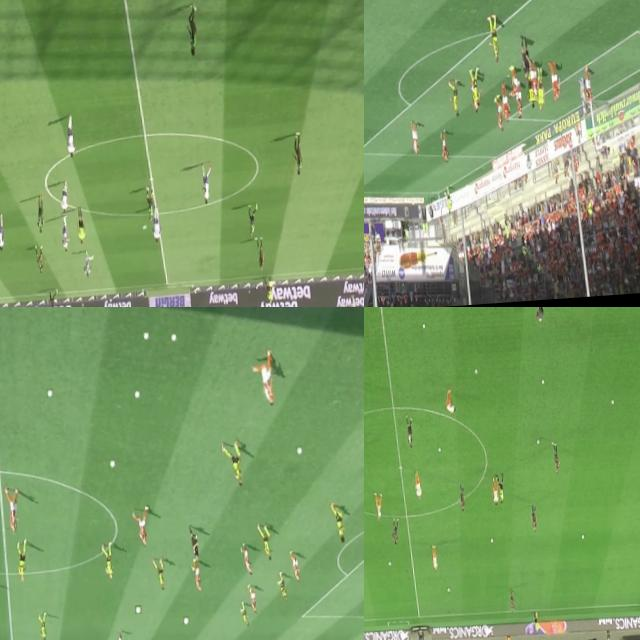ball: (140, 221, 149, 232), (46, 387, 54, 398), (134, 604, 142, 614), (441, 188, 447, 200), (296, 444, 302, 456), (108, 458, 115, 468), (182, 614, 189, 624), (142, 331, 150, 339), (540, 378, 546, 388), (488, 536, 494, 546), (170, 332, 177, 340), (133, 390, 140, 398), (580, 532, 585, 541), (610, 398, 615, 407), (474, 366, 478, 376), (436, 444, 440, 454), (386, 560, 391, 568), (447, 585, 451, 593), (421, 322, 425, 329), (537, 438, 539, 446)
player: (220, 436, 243, 486), (130, 501, 152, 548), (488, 8, 502, 68), (4, 482, 20, 534), (255, 520, 272, 562), (186, 1, 198, 59), (100, 538, 116, 580), (15, 534, 29, 582), (504, 62, 520, 101), (408, 112, 421, 158), (152, 552, 166, 594), (331, 498, 344, 542), (64, 114, 76, 159), (200, 162, 212, 207), (548, 60, 560, 105), (238, 540, 252, 576), (512, 85, 524, 122), (534, 70, 545, 110), (276, 566, 288, 602), (293, 135, 303, 178), (151, 208, 162, 246), (254, 236, 265, 274), (500, 84, 510, 124), (578, 78, 588, 118), (190, 556, 201, 592), (36, 608, 48, 640), (248, 204, 258, 240), (470, 80, 480, 116), (525, 74, 535, 110), (238, 596, 250, 626), (145, 189, 155, 224), (440, 128, 450, 162), (290, 546, 300, 580), (61, 217, 70, 254), (37, 197, 46, 234), (444, 388, 456, 415), (442, 182, 452, 214), (494, 92, 502, 132), (584, 67, 592, 107), (248, 582, 258, 614), (550, 440, 560, 472), (403, 413, 412, 447), (60, 183, 70, 213), (413, 468, 422, 500), (84, 252, 95, 278), (530, 61, 538, 95), (456, 482, 466, 509), (374, 488, 382, 520), (452, 76, 458, 118), (472, 70, 479, 106), (0, 215, 6, 254), (529, 504, 537, 532), (36, 248, 44, 274), (392, 517, 399, 545), (508, 584, 514, 614), (532, 307, 542, 322), (115, 626, 125, 640), (49, 290, 57, 307)
